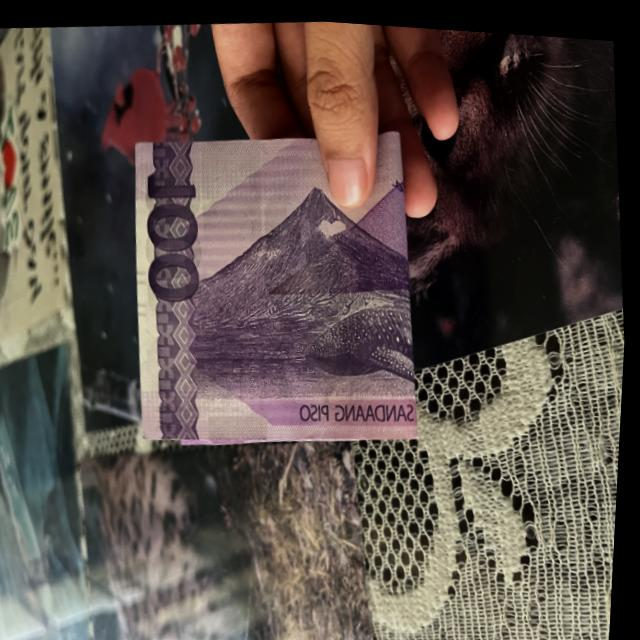value: (144, 162, 212, 307)
